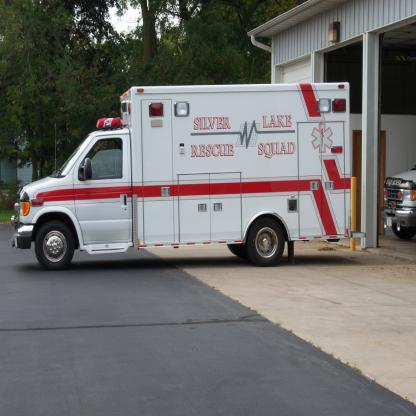Ambulance: (11, 82, 366, 270)
Truck: (11, 57, 366, 271)
